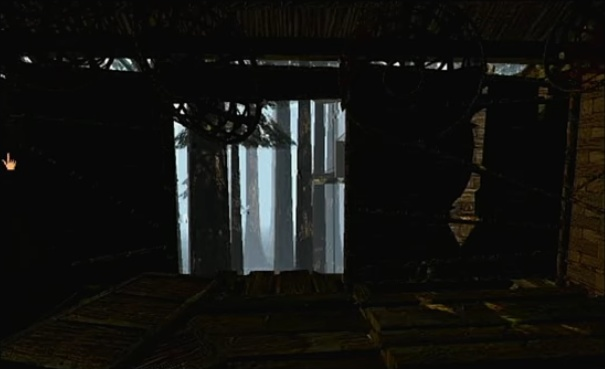Pointer: (0, 148, 20, 172)
